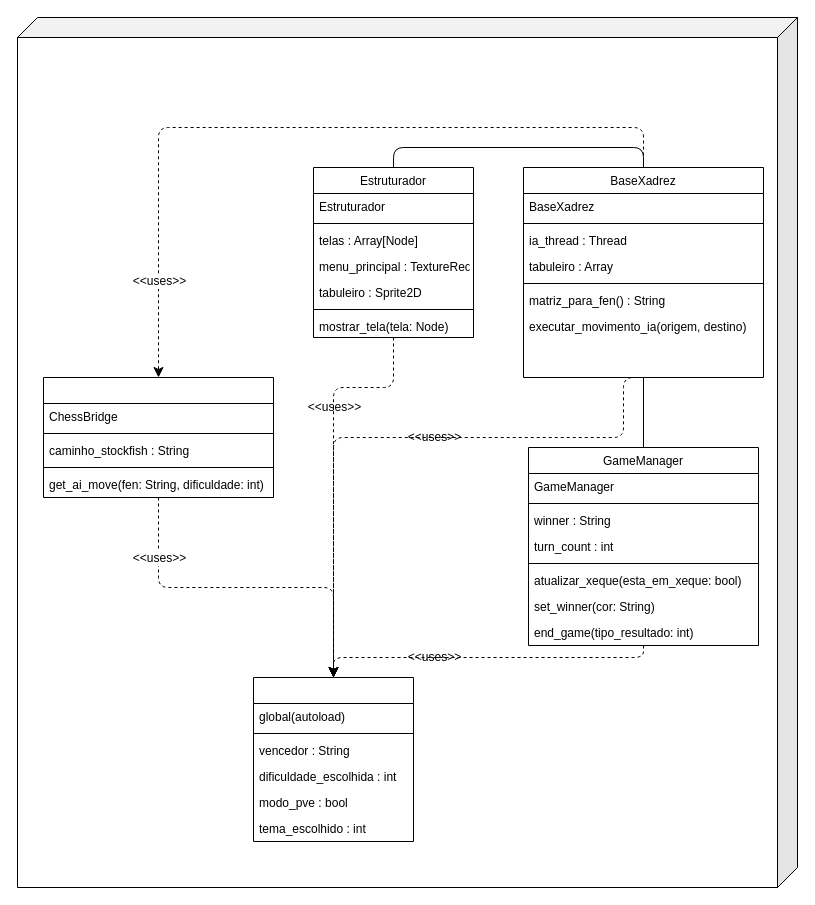
This 815x905 diagram has some shape labels left out. The shapes that lost their labels are listed below. From the top down, each one's box as (x1, y1, x2, y2) in pixels, then its label:
(42, 376, 274, 498): ChessBridge (Python)
(252, 676, 414, 842): global(singleton)
